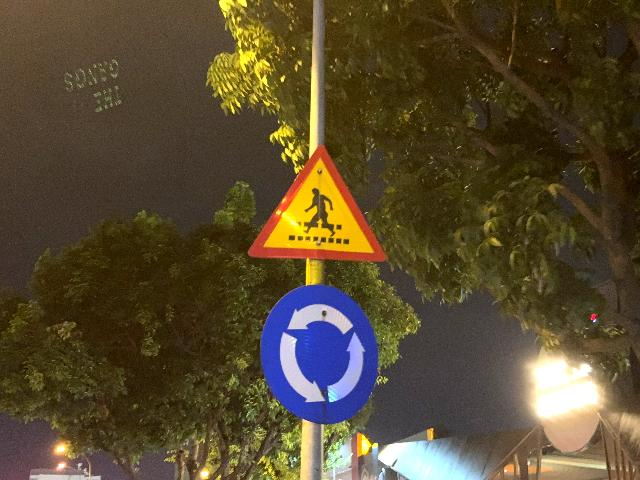duong-nguoi-di-bo-cat-ngang: (247, 144, 386, 262)
noi-giao-nhau-chay-theo-vong-xuyen: (259, 284, 379, 425)
